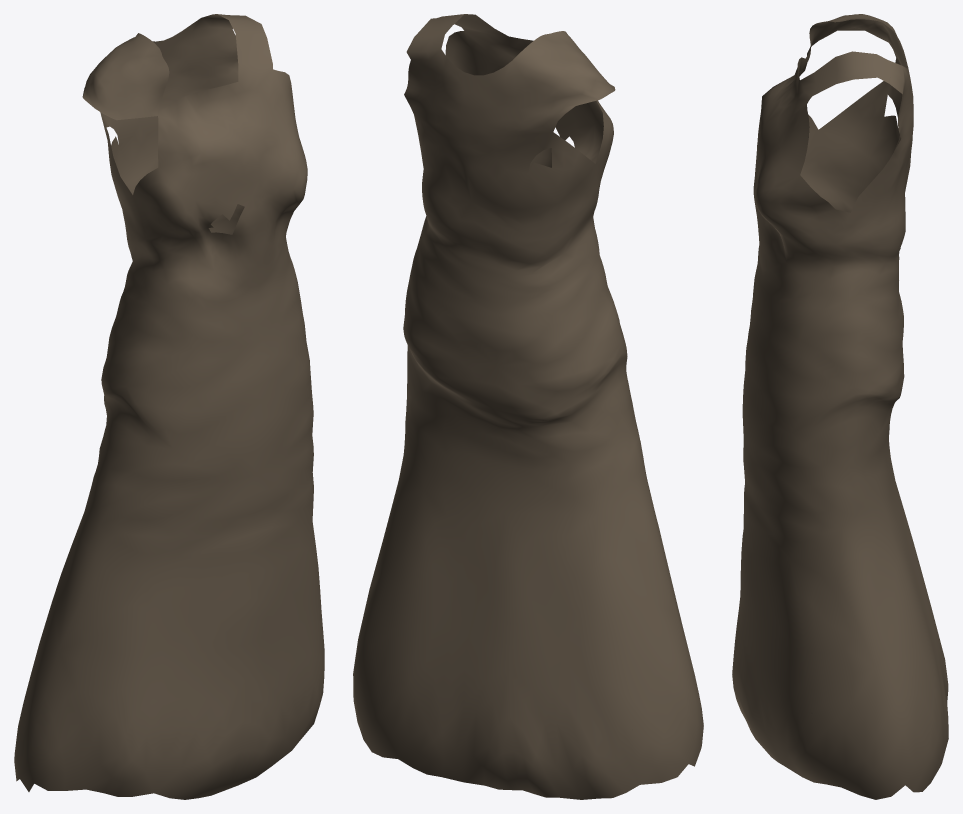
Rendered from MANGGAGAWAY clothes.fbx.
The picture shows the model from 3 angles, left to right: view 1: azimuth 30°, elevation 25°; view 2: azimuth 150°, elevation 25°; view 3: azimuth 270°, elevation 25°; orthographic projection.
Visible parts, largest first — view 1: MANGGAGAWAY CLOTHES; view 2: MANGGAGAWAY CLOTHES; view 3: MANGGAGAWAY CLOTHES.
Part boxes in pixels (x1,y1,x2,y2): MANGGAGAWAY CLOTHES: (14, 14, 324, 799); MANGGAGAWAY CLOTHES: (353, 14, 703, 799); MANGGAGAWAY CLOTHES: (732, 14, 948, 799).
Size of the model in its own units: 85 by 192 by 52.29.
1 material, 1 textured.
